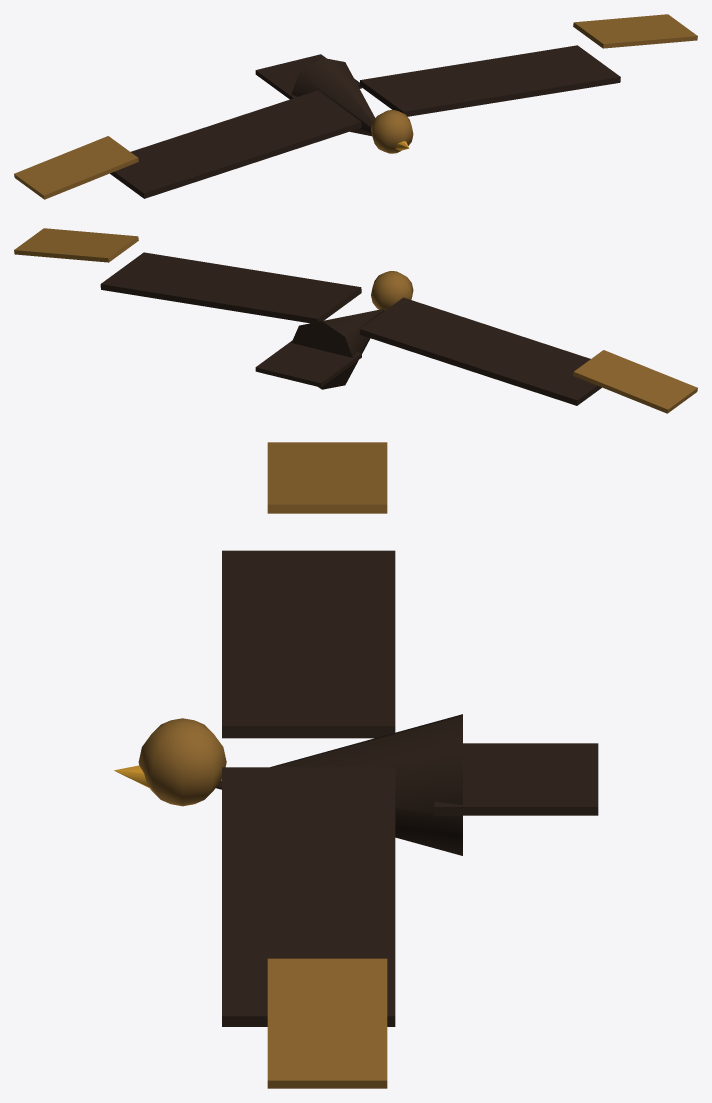
Rendered from golden_eagle.glb.
The picture shows the model from 3 angles, top to bottom: view 1: azimuth 30°, elevation 25°; view 2: azimuth 150°, elevation 25°; view 3: azimuth 270°, elevation 25°; orthographic projection. The views are drawn at different scales.
Visible parts, largest first — view 1: Golden_Eagle; view 2: Golden_Eagle; view 3: Golden_Eagle.
Part boxes in pixels (left/top/right/bottom): Golden_Eagle: left=14, top=14, right=697, bottom=199; Golden_Eagle: left=14, top=228, right=697, bottom=413; Golden_Eagle: left=114, top=442, right=598, bottom=1088.
Size of the model in its own units: 4.8 by 0.48 by 1.54.
